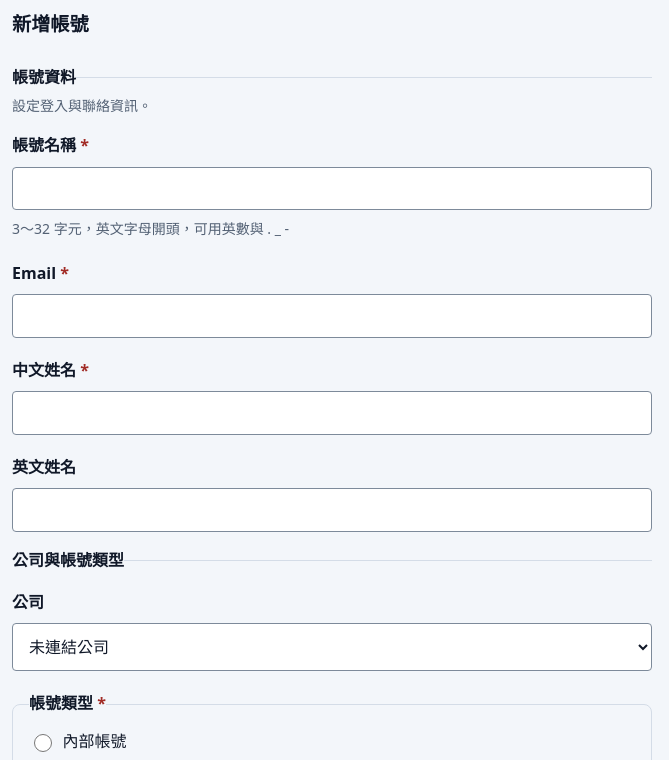
Scenario: UserForm 反灰欄位說明（#284 第 5 項） › 選了公司後欄位可填寫，說明消失
Select "示範公司" in the dropdown labelled "公司" at (332, 647), box [12,623,652,671]
(page scrolled)
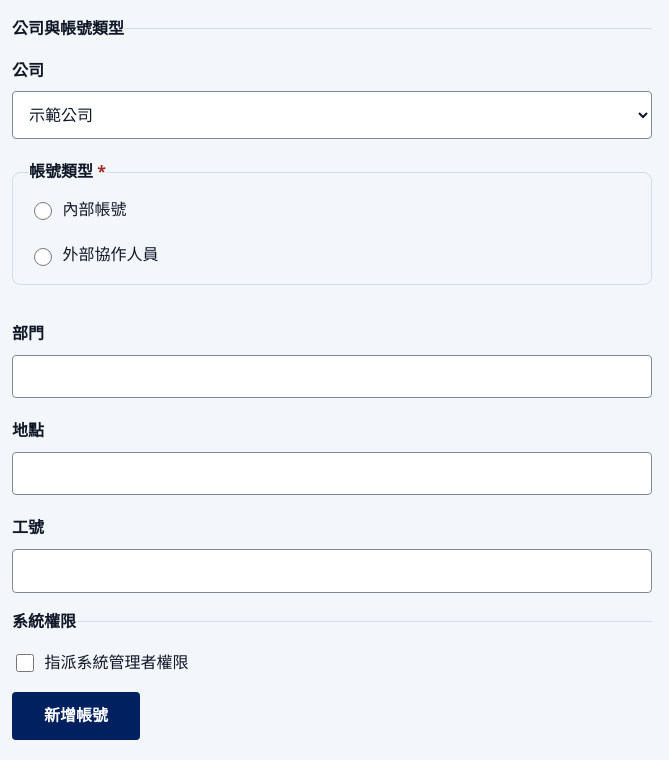
Now the field labelled "部門" is enabled, box [12,355,652,398]
Now the field labelled "地點" is enabled, box [12,452,652,495]
Now the field labelled "工號" is enabled, box [12,549,652,593]
